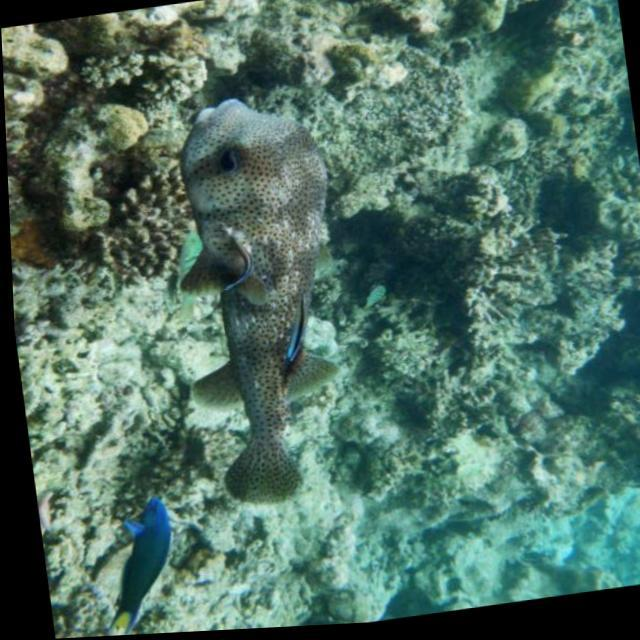Dead Coral: (300, 0, 640, 566), (1, 17, 268, 640)
